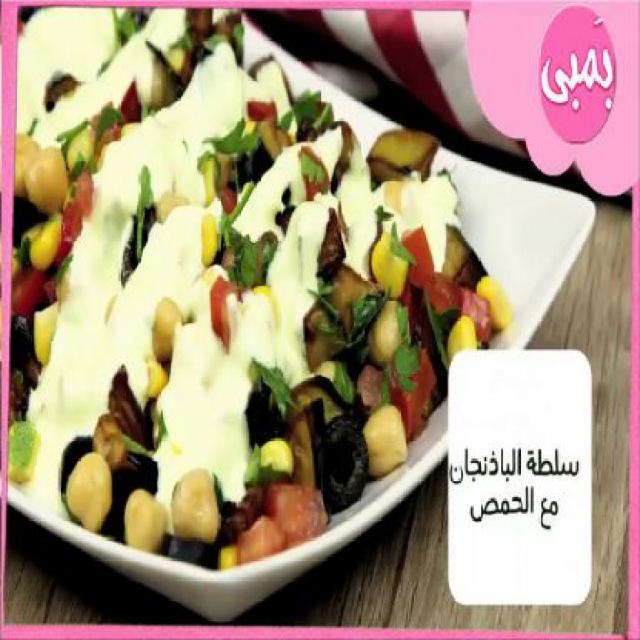eggplant: (15, 45, 508, 578)
hummus: (48, 76, 443, 512)
